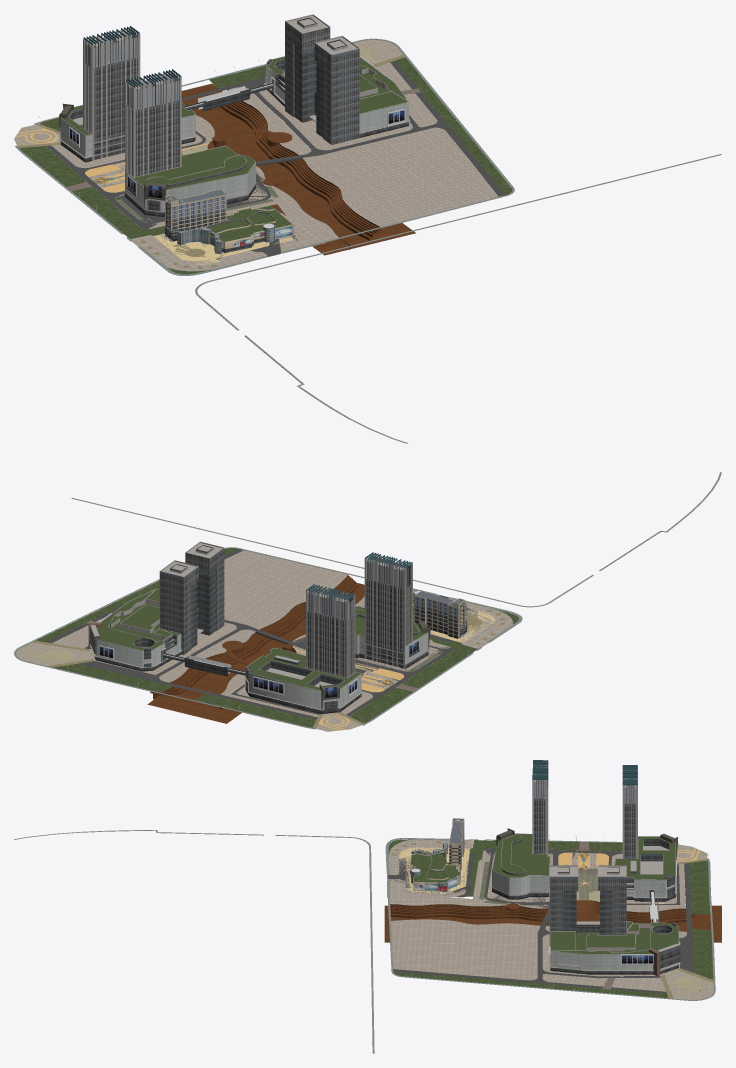
The model's file is wanlian.FBX.
3 renders of one model, top to bottom at view 1: azimuth 30°, elevation 25°; view 2: azimuth 150°, elevation 25°; view 3: azimuth 270°, elevation 25°, orthographic. The views are drawn at different scales.
Parts seen in each view (by area): view 1: Line007, Line010, Line038, Line013, Line080; view 2: Line007, Line010, Line013, Line038, Line080; view 3: Line007, Line010, Line038, Line013, Line080.
Boxes of the visible parts, x1,y1,x2,y2 form: Line007: [14, 38, 721, 443]; Line010: [264, 14, 410, 144]; Line038: [124, 69, 256, 216]; Line013: [59, 26, 273, 162]; Line080: [161, 189, 293, 254]; Line007: [14, 472, 721, 731]; Line010: [88, 541, 224, 671]; Line013: [162, 584, 362, 714]; Line038: [355, 552, 430, 668]; Line080: [413, 590, 469, 638]; Line007: [14, 830, 721, 1053]; Line010: [549, 865, 680, 976]; Line038: [491, 760, 550, 899]; Line013: [614, 765, 678, 923]; Line080: [410, 818, 464, 891].
Bounding box in the file's own units: 76629 × 17759 × 102396.
